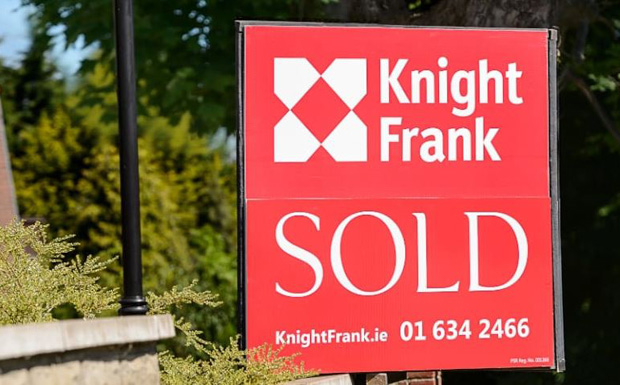property sign: (211, 12, 581, 378)
